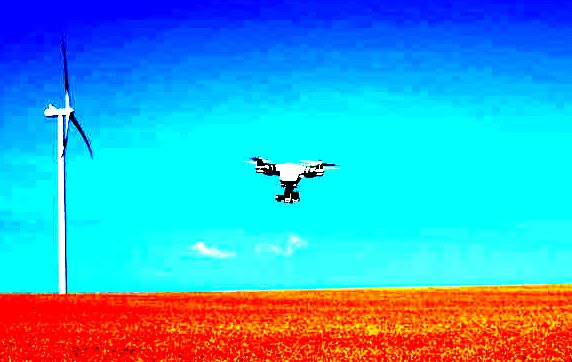Drone: (244, 151, 342, 205)
